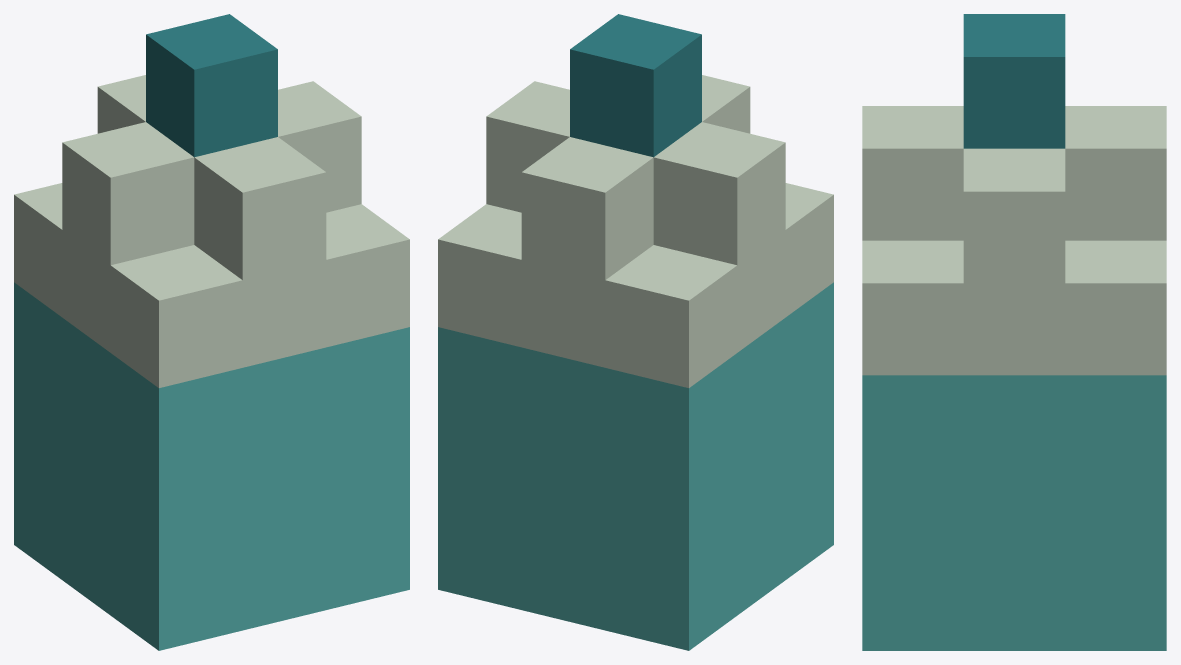
The model's file is Bunker - Free Sample-1-Bottle_Blue-0.obj.
3 renders of one model, left to right at view 1: azimuth 30°, elevation 25°; view 2: azimuth 150°, elevation 25°; view 3: azimuth 270°, elevation 25°, orthographic. The views are drawn at different scales.
Parts seen in each view (by area): view 1: Bottle_Blue-0; view 2: Bottle_Blue-0; view 3: Bottle_Blue-0.
Part boxes in pixels (<box>): Bottle_Blue-0: <box>14,14,409,650</box>; Bottle_Blue-0: <box>438,14,833,650</box>; Bottle_Blue-0: <box>862,14,1166,650</box>.
Size of the model in its own units: 0.06 by 0.12 by 0.06.
1 material, 1 textured.
